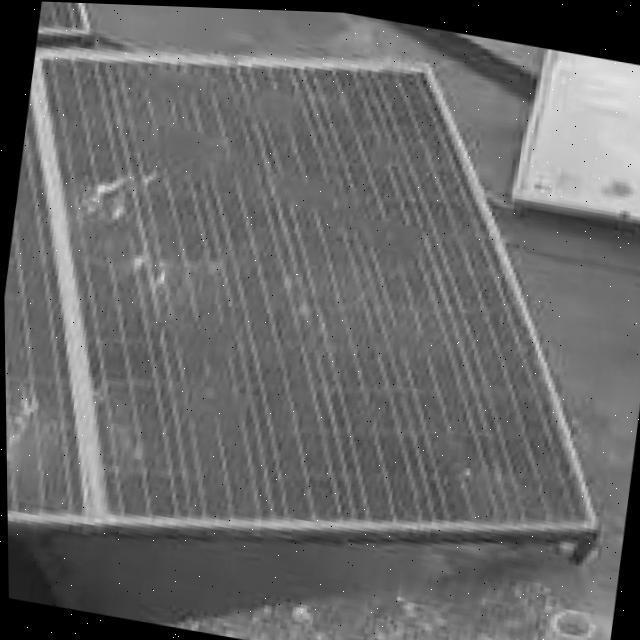Anomaly Solar Panel: (36, 15, 589, 573)
Surface Contaminant: (133, 254, 268, 435), (266, 158, 435, 269), (134, 62, 294, 130), (143, 111, 264, 199), (79, 192, 157, 253), (346, 312, 436, 362), (357, 118, 417, 178), (328, 387, 386, 437), (425, 427, 478, 470)
